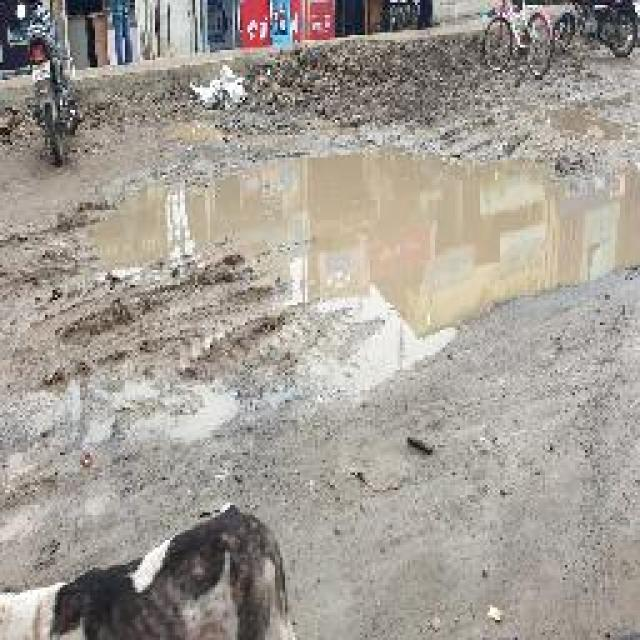waterlogging: (89, 160, 640, 345)
